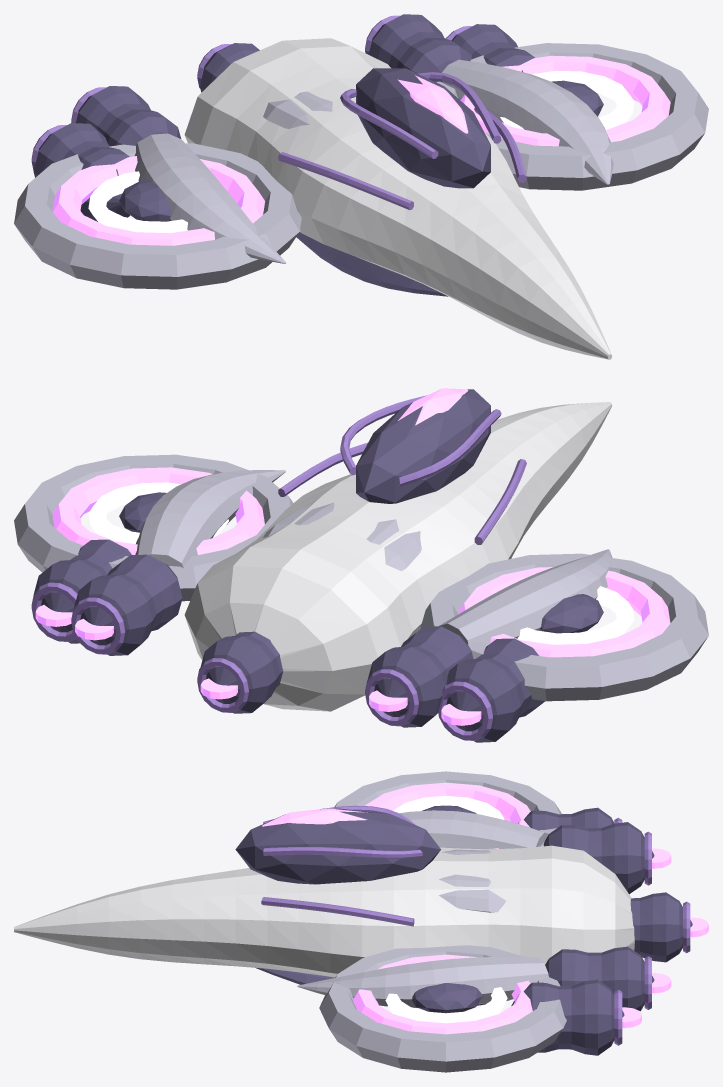
The model's file is SL_KENSEI_LOD.glb.
3 renders of one model, top to bottom at view 1: azimuth 30°, elevation 25°; view 2: azimuth 150°, elevation 25°; view 3: azimuth 270°, elevation 25°, orthographic. The views are drawn at different scales.
Visible parts, largest first — view 1: armor, plate, dark, energy, accent, core; view 2: armor, plate, dark, energy, accent, core; view 3: armor, dark, plate, energy, accent, core.
Boxes of the visible parts, <box> form: armor: <box>184,38,612,359</box>; plate: <box>14,43,708,289</box>; dark: <box>33,14,603,296</box>; energy: <box>52,55,670,245</box>; accent: <box>31,15,526,210</box>; core: <box>88,70,634,233</box>; armor: <box>184,402,612,711</box>; plate: <box>14,454,708,701</box>; dark: <box>33,389,603,742</box>; energy: <box>35,388,670,725</box>; accent: <box>31,395,526,740</box>; core: <box>88,482,634,644</box>; armor: <box>14,845,634,977</box>; dark: <box>235,805,692,1055</box>; plate: <box>297,771,566,1072</box>; energy: <box>262,782,708,1034</box>; accent: <box>261,805,690,1045</box>; core: <box>385,795,507,1023</box>.
Size of the model in its own units: 5.52 by 1.72 by 5.81.
